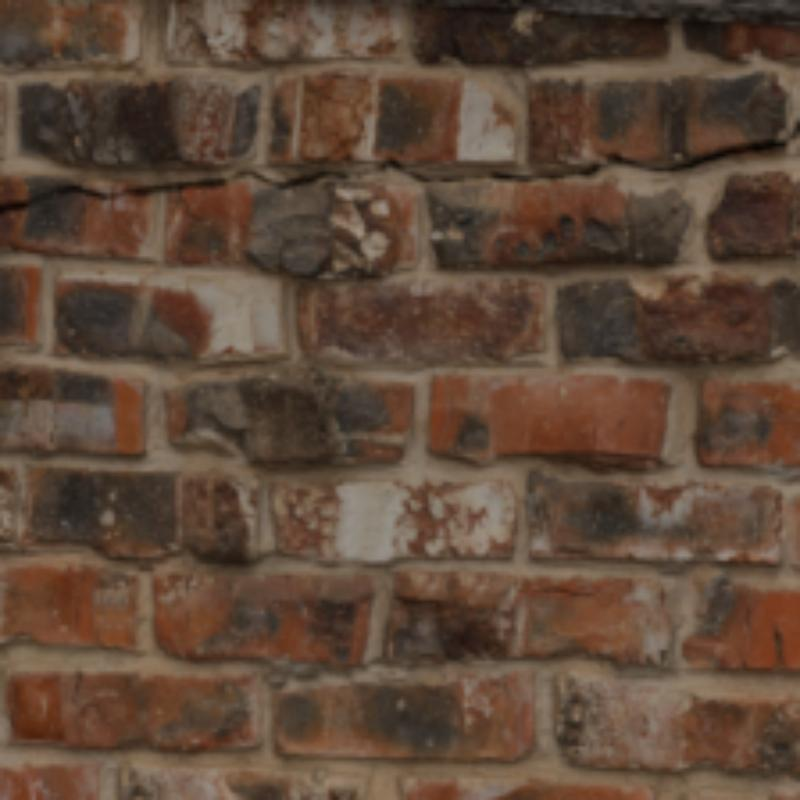crack: (2, 118, 799, 211)
